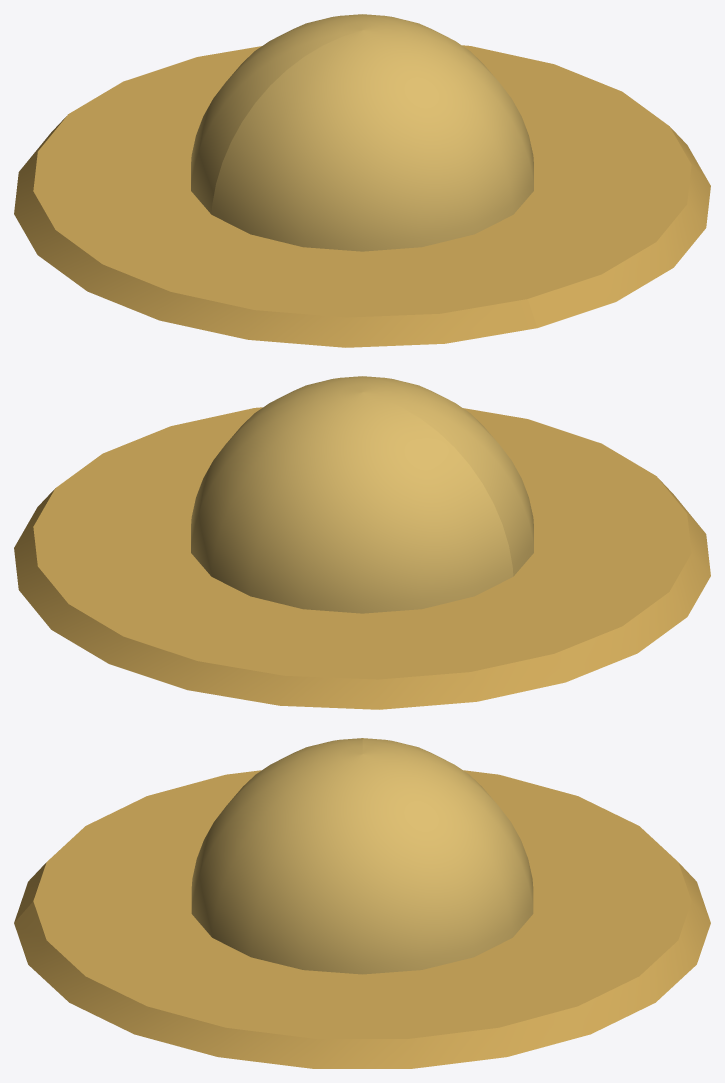
Rendered from strawhat.glb.
3 renders of one model, top to bottom at view 1: azimuth 30°, elevation 25°; view 2: azimuth 150°, elevation 25°; view 3: azimuth 270°, elevation 25°, orthographic.
Visible parts, largest first — view 1: strawhat; view 2: strawhat; view 3: strawhat.
Boxes of the visible parts, bbox=[...] form: strawhat: bbox=[14, 14, 710, 347]; strawhat: bbox=[14, 376, 710, 709]; strawhat: bbox=[14, 738, 710, 1068].
Bounding box in the file's own units: 0.7127 × 0.1925 × 0.72.
